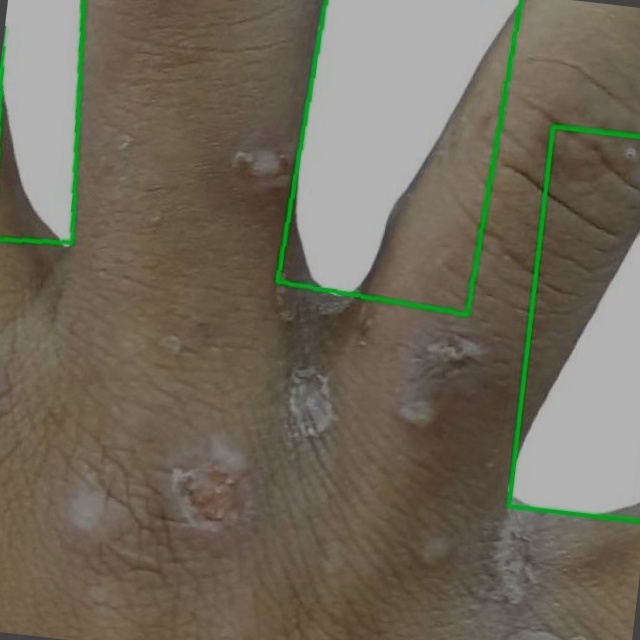Scabies: (277, 0, 520, 314), (509, 126, 639, 521), (0, 0, 82, 243)
